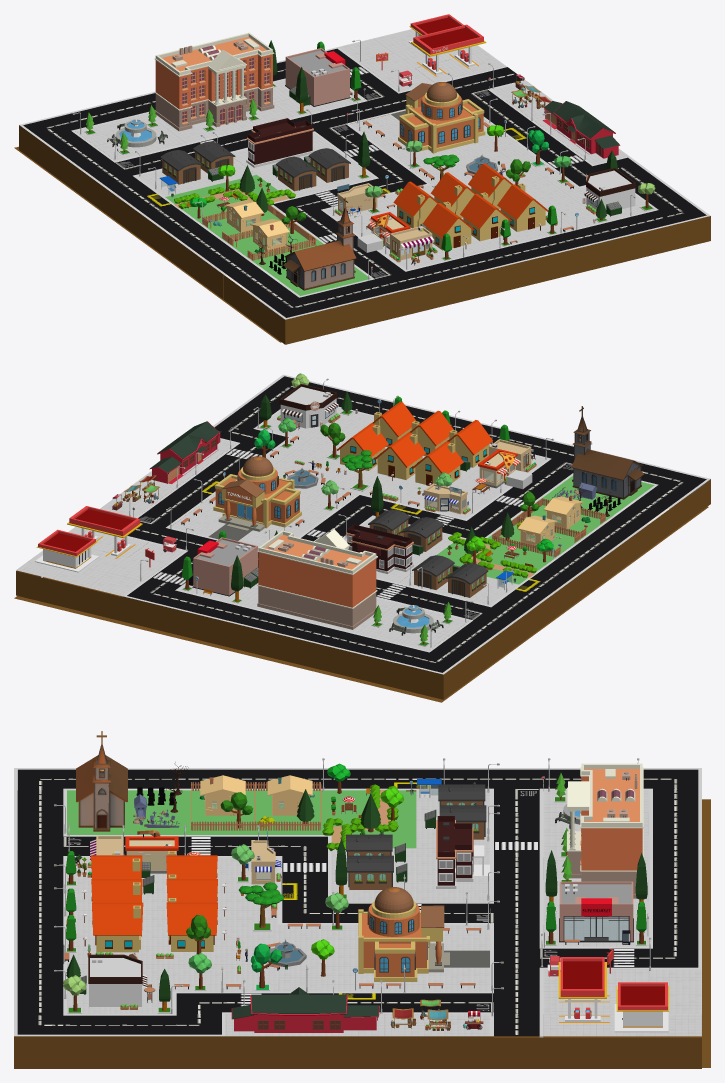
Rendered from MAPfixed.fbx.
The picture shows the model from 3 angles, top to bottom: view 1: azimuth 30°, elevation 25°; view 2: azimuth 150°, elevation 25°; view 3: azimuth 270°, elevation 25°; orthographic projection. The views are drawn at different scales.
Parts seen in each view (by area): view 1: Fontana_Colore_0; view 2: Fontana_Colore_0; view 3: Fontana_Colore_0.
Boxes of the visible parts, x1,y1,x2,y2 form: Fontana_Colore_0: (14,14,710,344); Fontana_Colore_0: (14,373,710,702); Fontana_Colore_0: (14,731,710,1068).
Size of the model in its own units: 5276 by 1172 by 5768.
